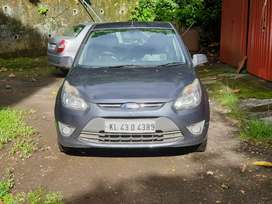KL43D4389: (104, 120, 155, 131)
